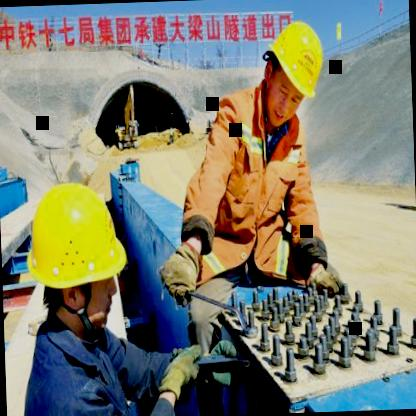helmet: (13, 173, 130, 338), (250, 6, 334, 130)
